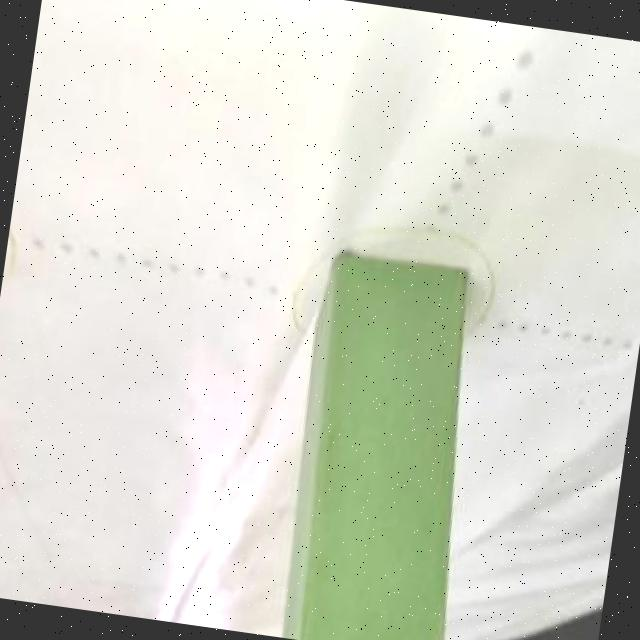greenbox: (268, 247, 499, 640)
